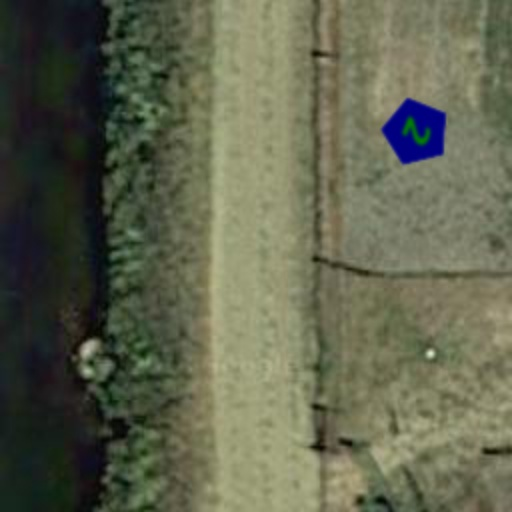pentagon: (368, 84, 464, 180)
